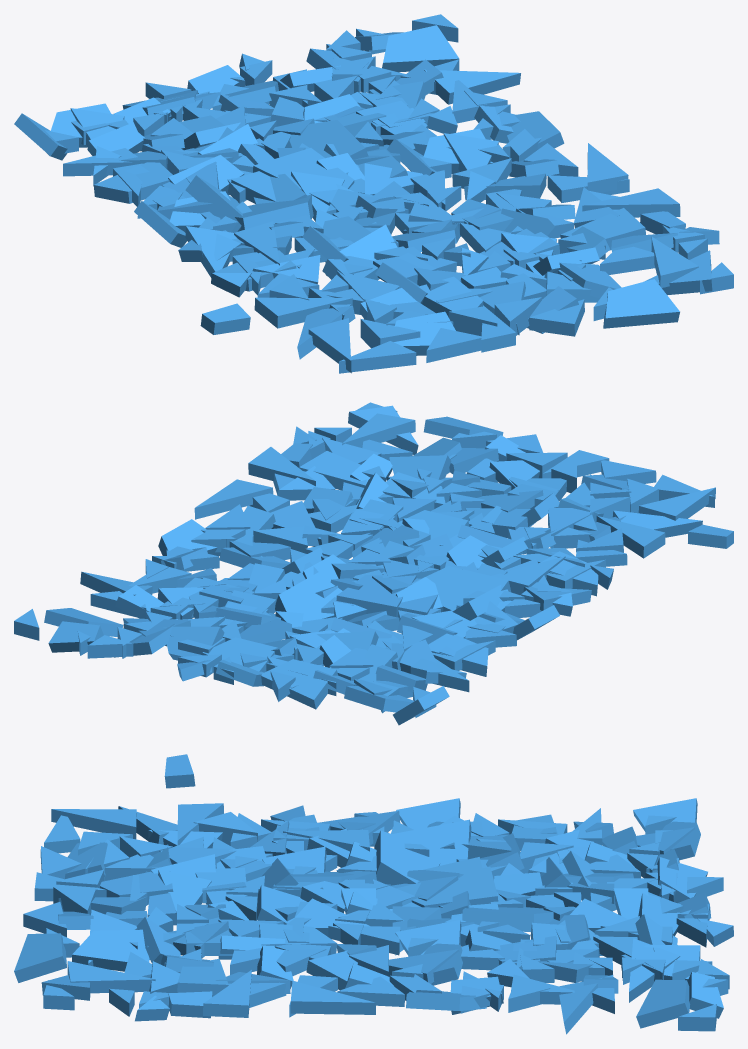
Rendered from BrakedIce (2).fbx.
The picture shows the model from 3 angles, top to bottom: view 1: azimuth 30°, elevation 25°; view 2: azimuth 150°, elevation 25°; view 3: azimuth 270°, elevation 25°; orthographic projection. The views are drawn at different scales.
Visible parts, largest first — view 1: Cube.013, Cube.001; view 2: Cube.013, Cube.001; view 3: Cube.013, Cube.001.
Boxes of the visible parts, x1=… form: Cube.013: x1=14, y1=14, x2=733, y2=373; Cube.001: x1=200, y1=303, x2=250, y2=334; Cube.013: x1=14, y1=402, x2=715, y2=725; Cube.001: x1=688, y1=524, x2=733, y2=548; Cube.013: x1=14, y1=798, x2=733, y2=1034; Cube.001: x1=164, y1=754, x2=195, y2=788.
Bounding box in the file's own units: 1935 × 175 × 2392.
